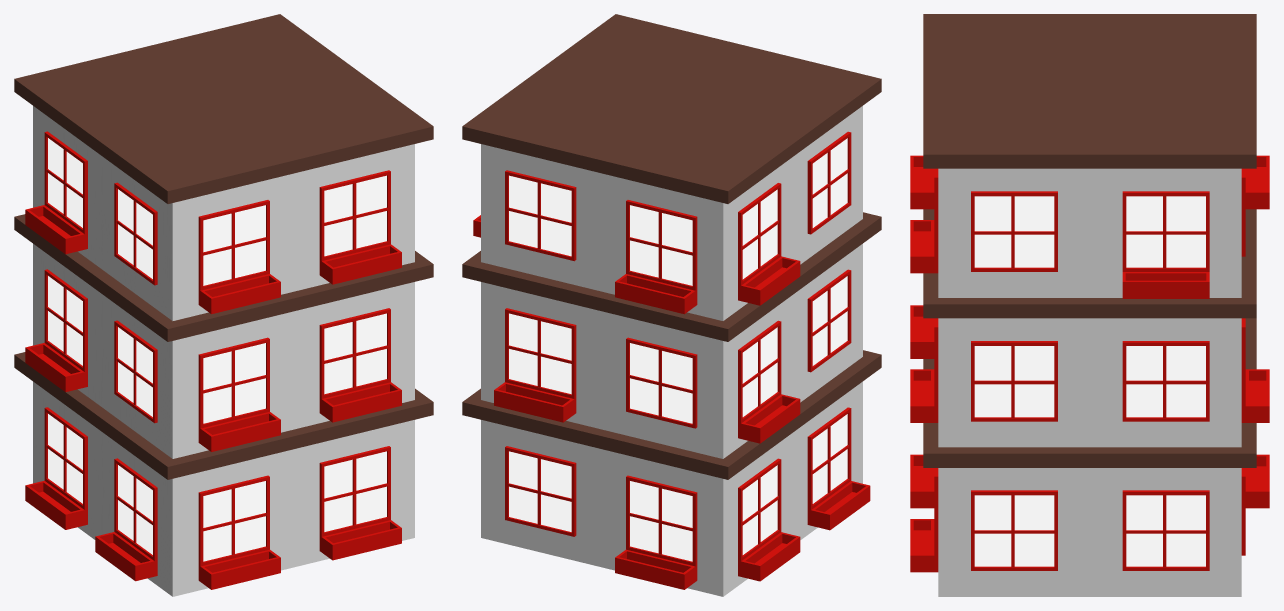
File: procedural-building.glb
The picture shows the model from 3 angles, left to right: view 1: azimuth 30°, elevation 25°; view 2: azimuth 150°, elevation 25°; view 3: azimuth 270°, elevation 25°; orthographic projection. The views are drawn at different scales.
Parts seen in each view (by area): view 1: Cube, Cube.002 (×10), Cube.001 (×2); view 2: Cube, Cube.002 (×7), Cube.001 (×5); view 3: Cube, Cube.001 (×5), Cube.002 (×10).
Boxes of the visible parts, x1,y1,x2,y2 form: Cube: (14,14,433,596); Cube.002 (×10): (25,131,401,589); Cube.001 (×2): (114,182,157,423); Cube: (462,14,881,596); Cube.002 (×7): (494,183,870,589); Cube.001 (×5): (505,131,851,536); Cube: (923,14,1256,596); Cube.001 (×5): (971,191,1209,570); Cube.002 (×10): (910,155,1269,572).
Size of the model in its own units: 5.59 by 7.7 by 5.59.
